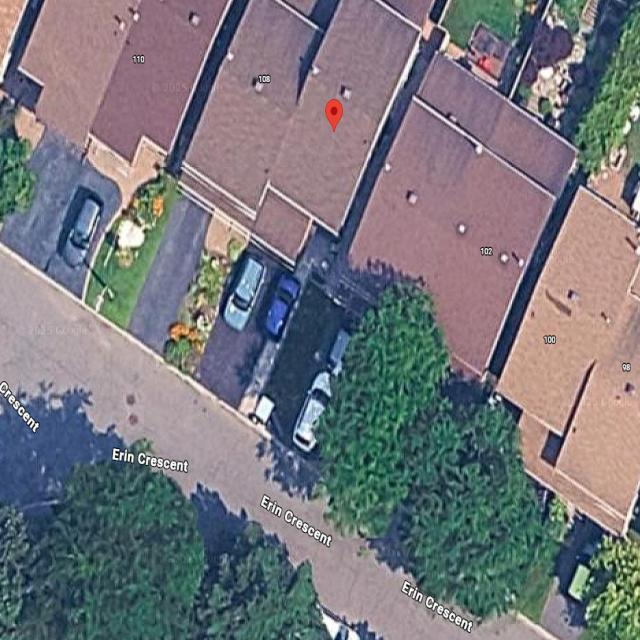Building: (177, 3, 422, 266)
boundaryof property: (100, 0, 447, 428)
obstacle: (220, 256, 271, 333), (261, 269, 301, 346)
walkways: (195, 239, 292, 410), (126, 198, 216, 356)
